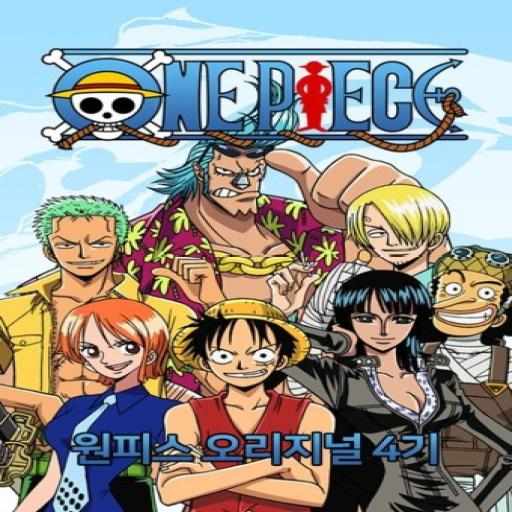Luffy: (173, 290, 319, 398)
Nami: (47, 294, 182, 391)
NicoRobin: (330, 262, 432, 360)
Usopp: (420, 244, 512, 342)
Zoro: (26, 194, 143, 286)
sanji: (340, 186, 457, 270)
